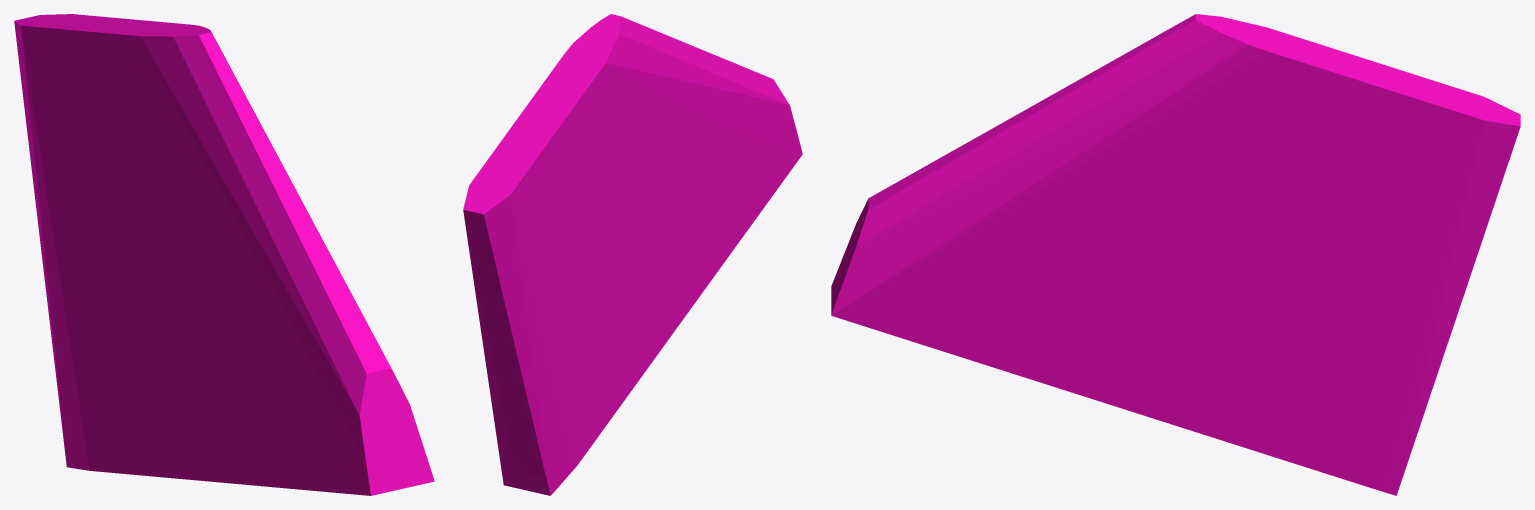
File: converted_Downdraft_Assy_collision_75_f908c4ff.obj
3 renders of one model, left to right at view 1: azimuth 30°, elevation 25°; view 2: azimuth 150°, elevation 25°; view 3: azimuth 270°, elevation 25°, orthographic. The views are drawn at different scales.
Size of the model in its own units: 0.0225 by 0.1678 by 0.2249.
